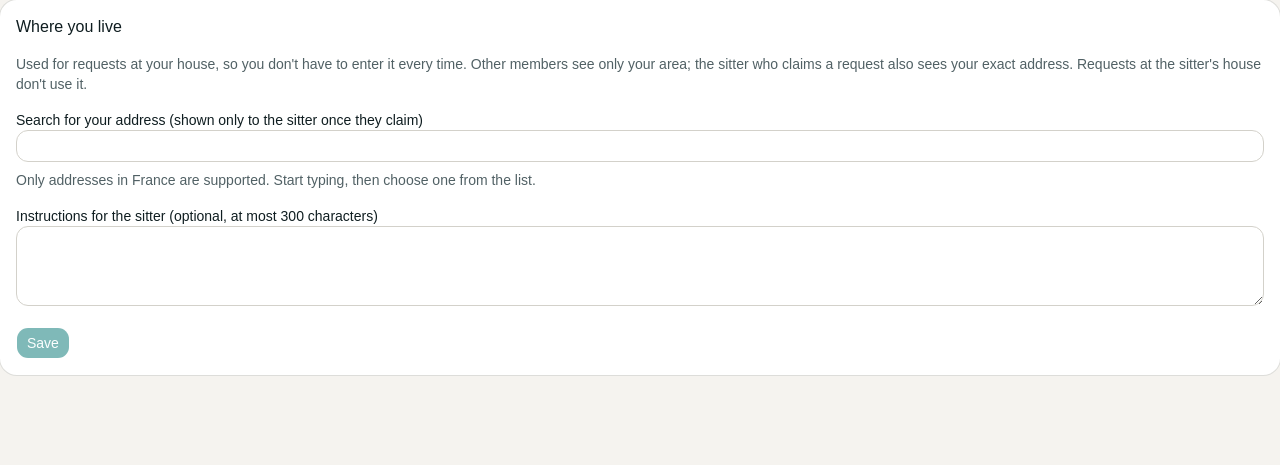
Test: ProfilePage › picks a suggestion with the keyboard
The width and height of the screenshot is (1280, 465).
Type "rue de la paix" into the dropdown labelled "Search for your address" at (640, 146), box [16,130,1264,162]
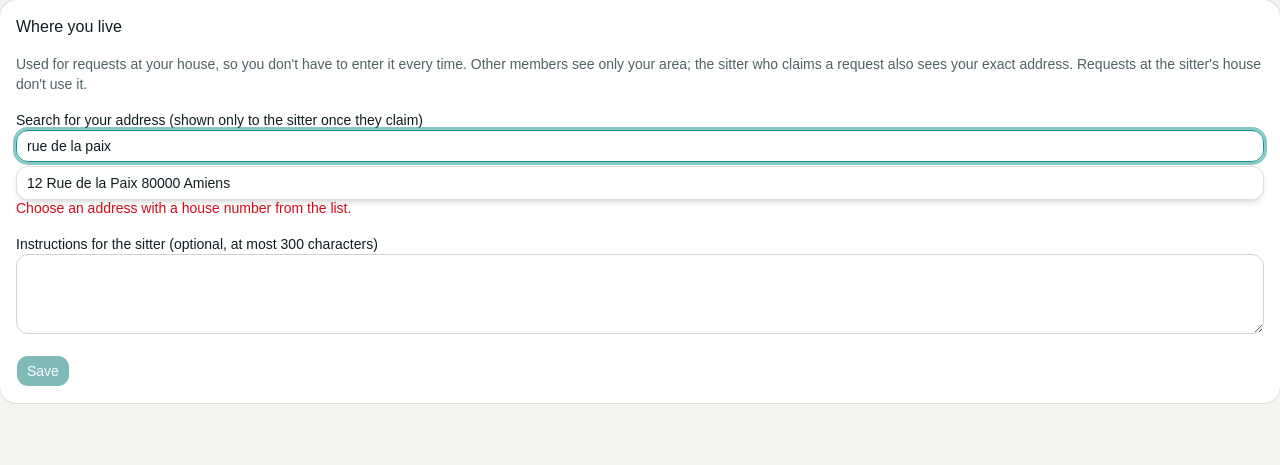
Expected: the option "12 Rue de la Paix 80000 Amiens" is shown, [27,175,230,191]
Press Arrowdown Enter
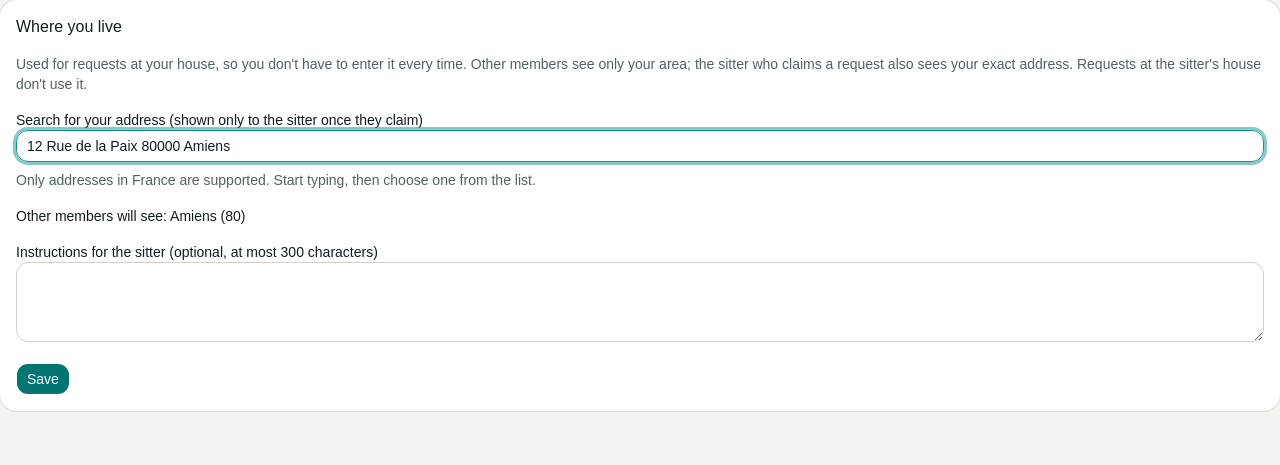
Click the button "Save" at (43, 379), box [16,363,70,395]
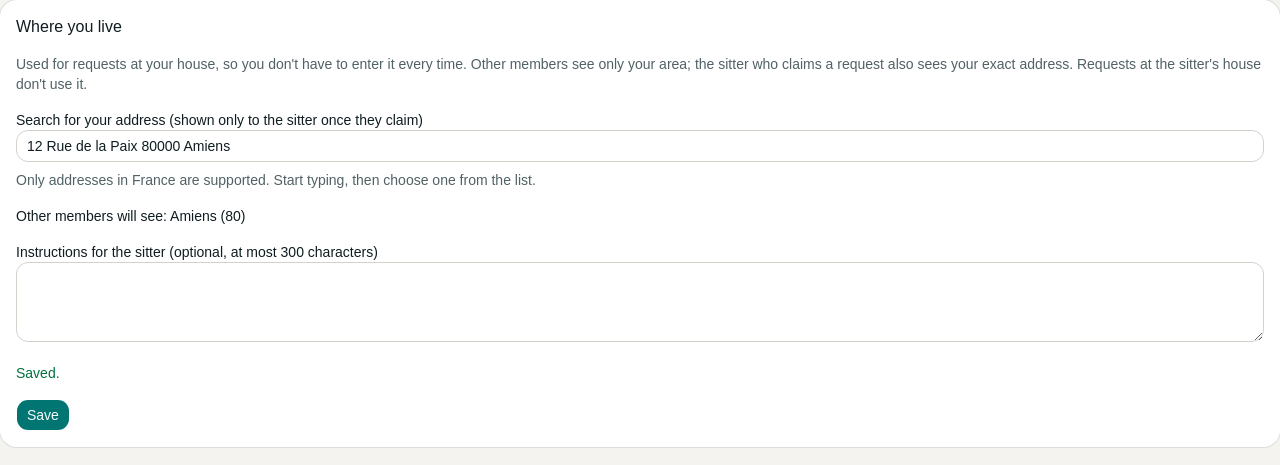
Expected: the message "Saved." is shown, [16,365,60,381]
